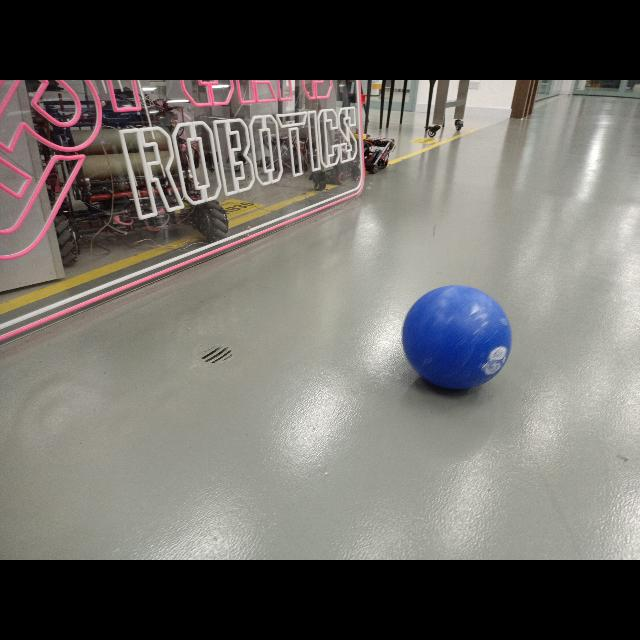B: (402, 283, 511, 392)
